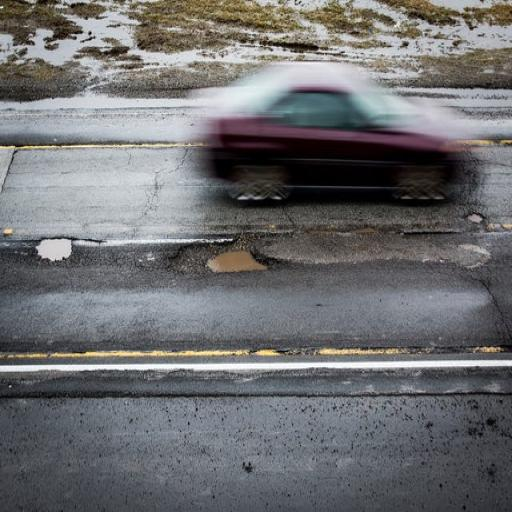pothole: (180, 224, 284, 324), (29, 206, 114, 312), (424, 155, 494, 251)
